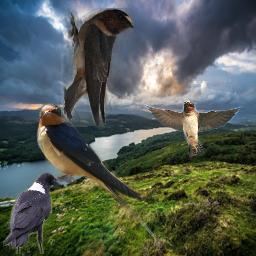Crow: (3, 172, 60, 254)
Swallow: (36, 103, 158, 240), (61, 8, 134, 127), (141, 100, 243, 157)
